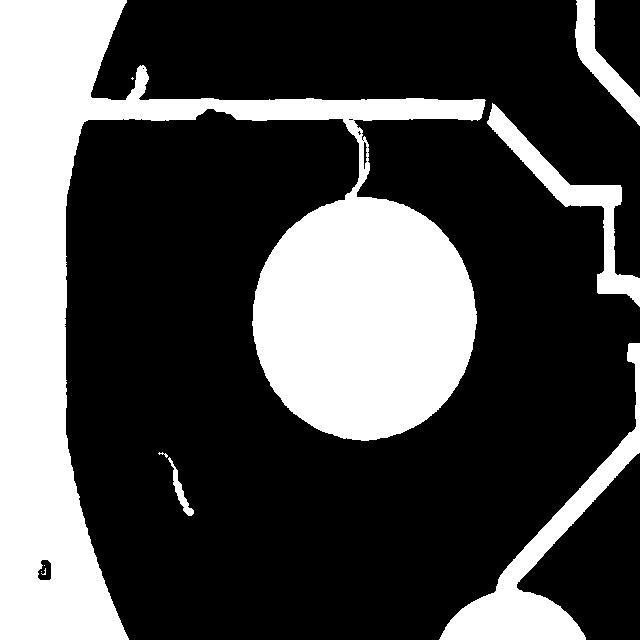copper: (28, 550, 60, 589)
mousebite: (116, 55, 156, 110)
open: (333, 108, 379, 211)
pin-hole: (148, 442, 203, 525)
short: (467, 89, 501, 139)
spur: (186, 99, 245, 135)
